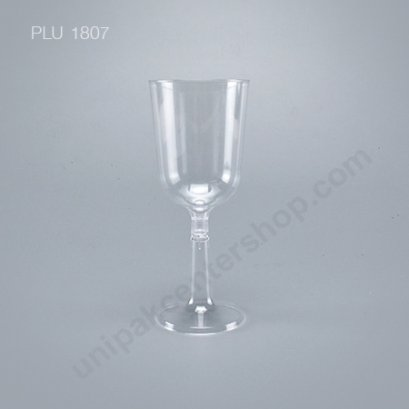plastic_glass: (141, 74, 253, 340)
